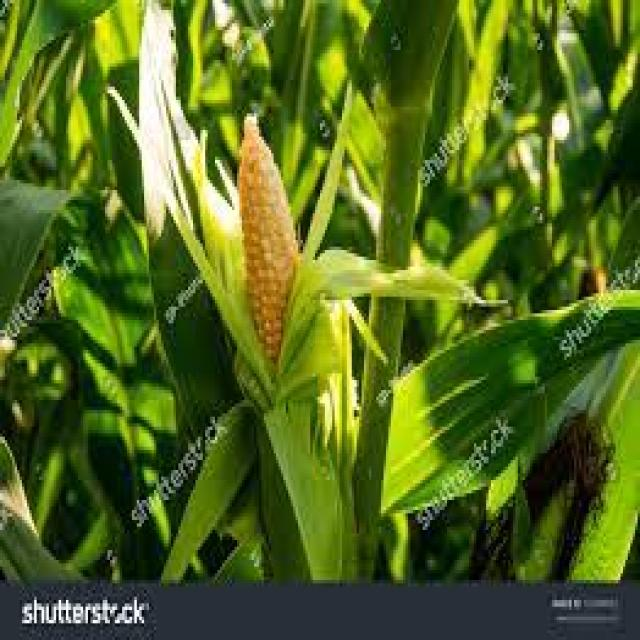Corn: (210, 90, 349, 447)
